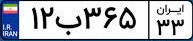character: (55, 13, 84, 36), (118, 4, 139, 32), (82, 4, 102, 31), (102, 3, 119, 31), (40, 3, 54, 32), (171, 16, 187, 37), (30, 5, 40, 32), (156, 17, 170, 36)
